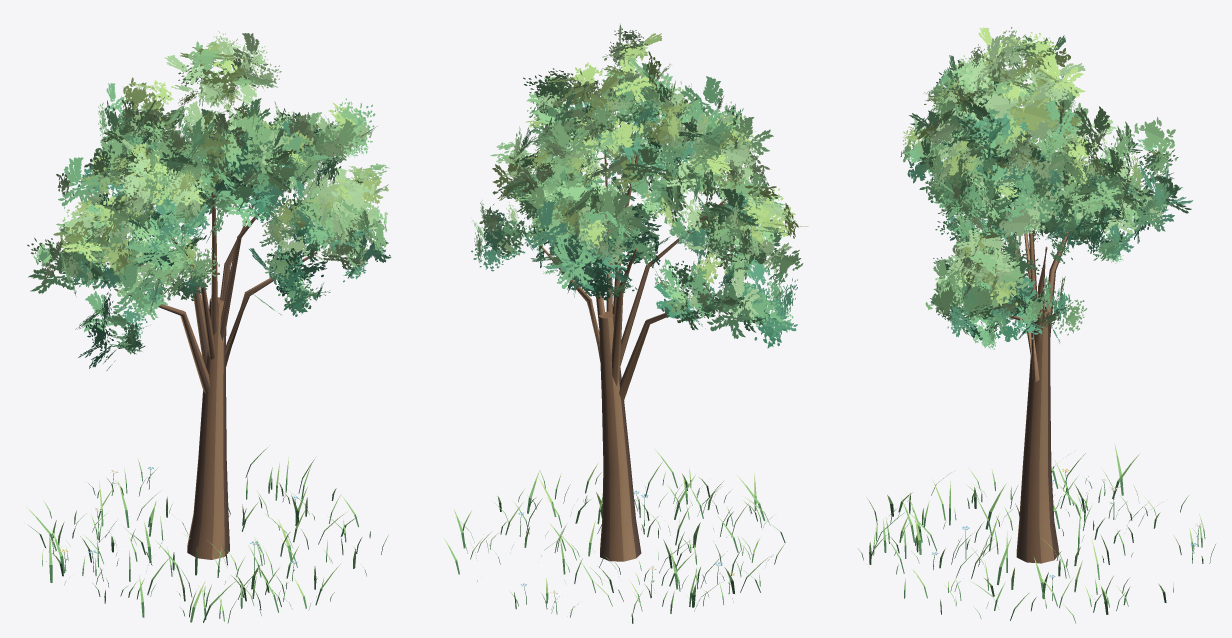
File: Nature_Island_01_Tree_LOD1.glb
The picture shows the model from 3 angles, left to right: view 1: azimuth 30°, elevation 25°; view 2: azimuth 150°, elevation 25°; view 3: azimuth 270°, elevation 25°; orthographic projection. The views are drawn at different scales.
Visible parts, largest first — view 1: Nature_Island_01_Tree_LOD1; view 2: Nature_Island_01_Tree_LOD1; view 3: Nature_Island_01_Tree_LOD1.
Boxes of the visible parts, x1,y1,x2,y2 form: Nature_Island_01_Tree_LOD1: (26, 30, 391, 623); Nature_Island_01_Tree_LOD1: (444, 23, 808, 623); Nature_Island_01_Tree_LOD1: (858, 27, 1215, 623).
Bounding box in the file's own units: 5.37 × 7.71 × 4.76.
Materials: 19 (6 with a texture image).
